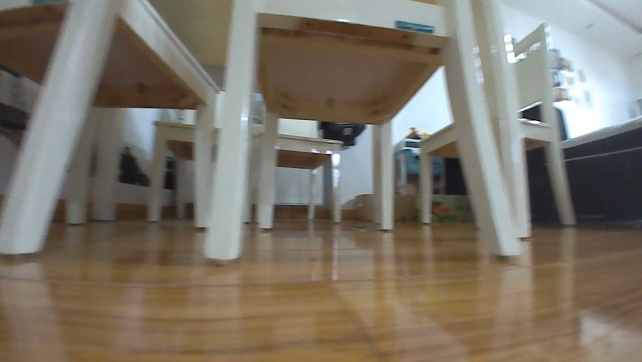dining_table1: (0, 0, 580, 267)
sofa1: (520, 100, 641, 223)
